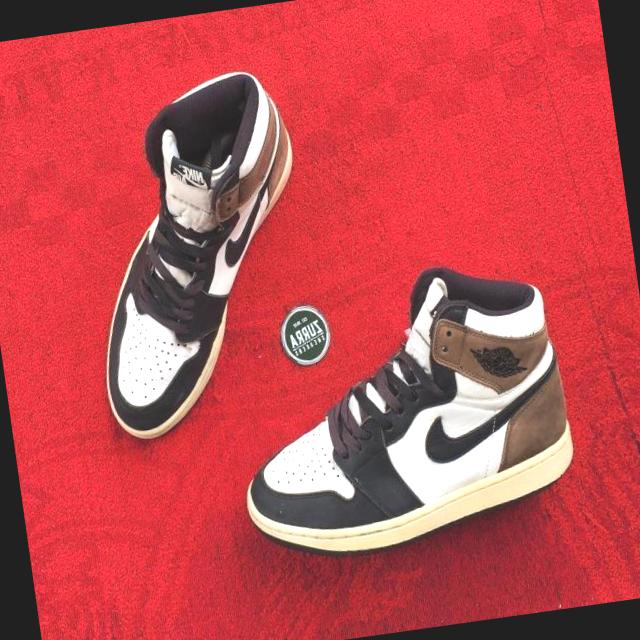nike_original_jordan: (213, 254, 582, 572), (64, 64, 334, 448)
